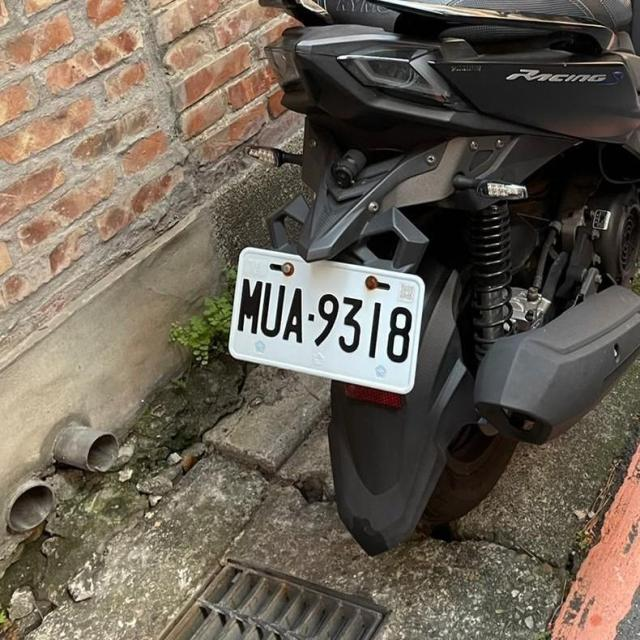W: (216, 240, 433, 399)
